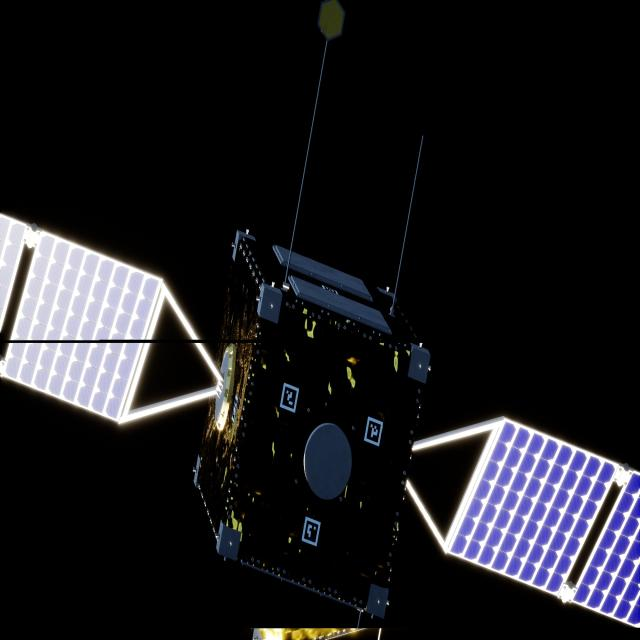satellite: (0, 214, 640, 630)
